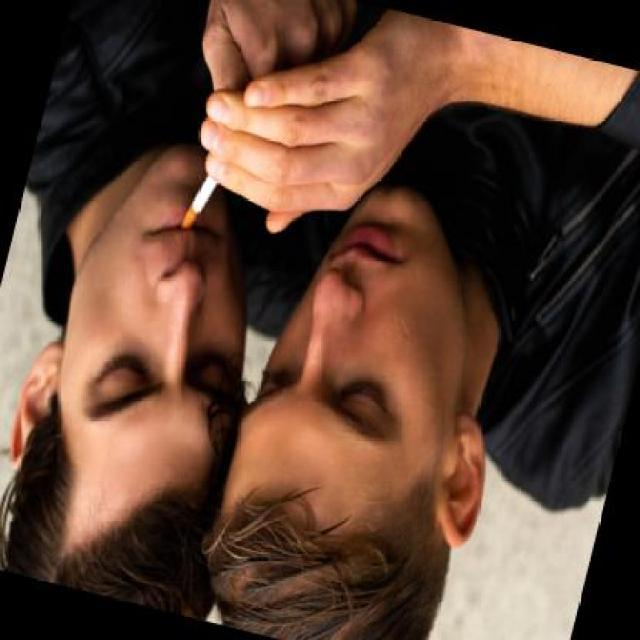cigarette: (174, 168, 220, 234)
